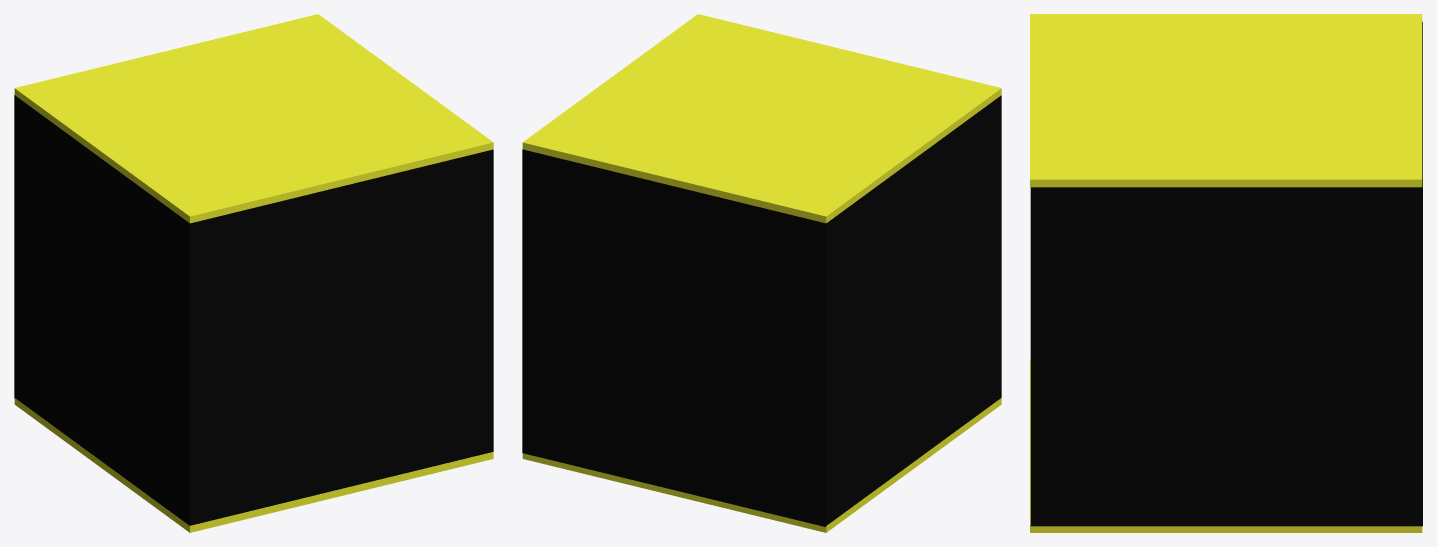
File: EsquineroAmarillo.fbx
3 renders of one model, left to right at view 1: azimuth 30°, elevation 25°; view 2: azimuth 150°, elevation 25°; view 3: azimuth 270°, elevation 25°, orthographic. The views are drawn at different scales.
Parts seen in each view (by area): view 1: Cube.079, Cube.081, Cube.082; view 2: Cube.079, Cube.081, Cube.082; view 3: Cube.079, Cube.081, Cube.082.
Boxes of the visible parts, bbox=[...] form: Cube.079: bbox=[14, 95, 493, 525]; Cube.081: bbox=[14, 14, 493, 223]; Cube.082: bbox=[14, 398, 493, 532]; Cube.079: bbox=[522, 95, 1001, 526]; Cube.081: bbox=[522, 14, 1001, 223]; Cube.082: bbox=[522, 398, 1001, 532]; Cube.079: bbox=[1030, 21, 1422, 526]; Cube.081: bbox=[1030, 14, 1422, 187]; Cube.082: bbox=[1030, 359, 1422, 532].
Size of the model in its own units: 73.3 by 72.96 by 73.48.
